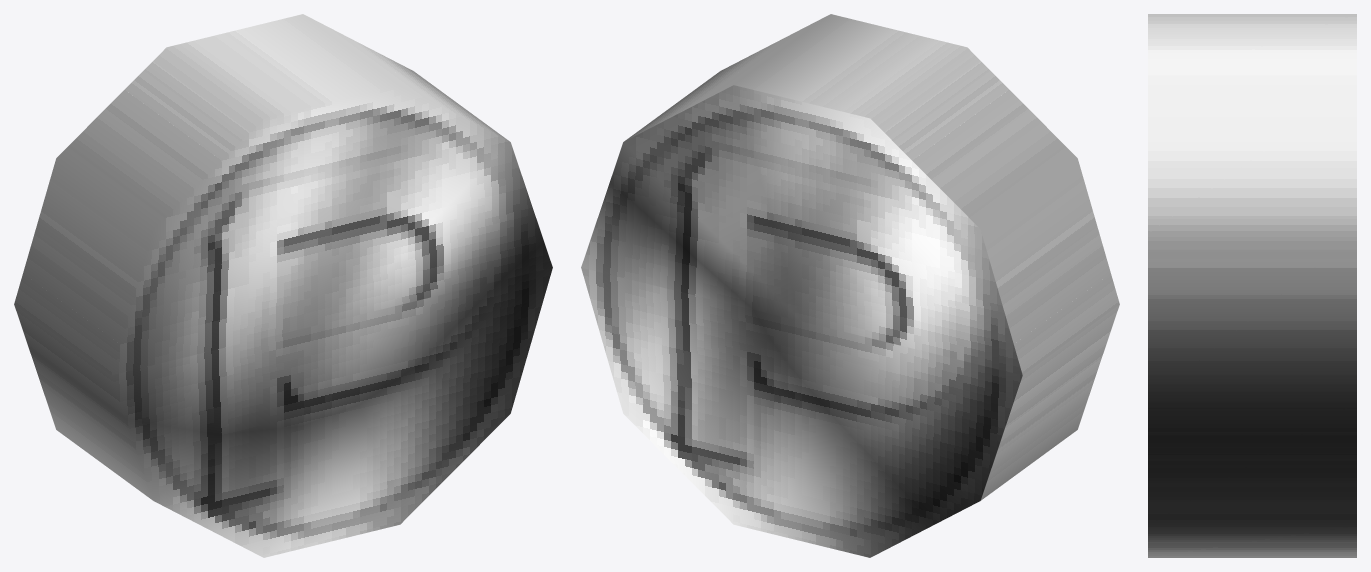
The model's file is poke_coin_silver.obj.
3 views of the same model, side by side, from view 1: azimuth 30°, elevation 25°; view 2: azimuth 150°, elevation 25°; view 3: azimuth 270°, elevation 25° (orthographic). The views are drawn at different scales.
Visible parts, largest first — view 1: poke_silver; view 2: poke_silver; view 3: poke_silver.
Part boxes in pixels (x1,y1,x2,y2): poke_silver: (14,14,552,557); poke_silver: (581,14,1119,557); poke_silver: (1148,14,1356,557).
Size of the model in its own units: 0.4704 by 0.4474 by 0.1792.
Materials: 1 (1 with a texture image).
